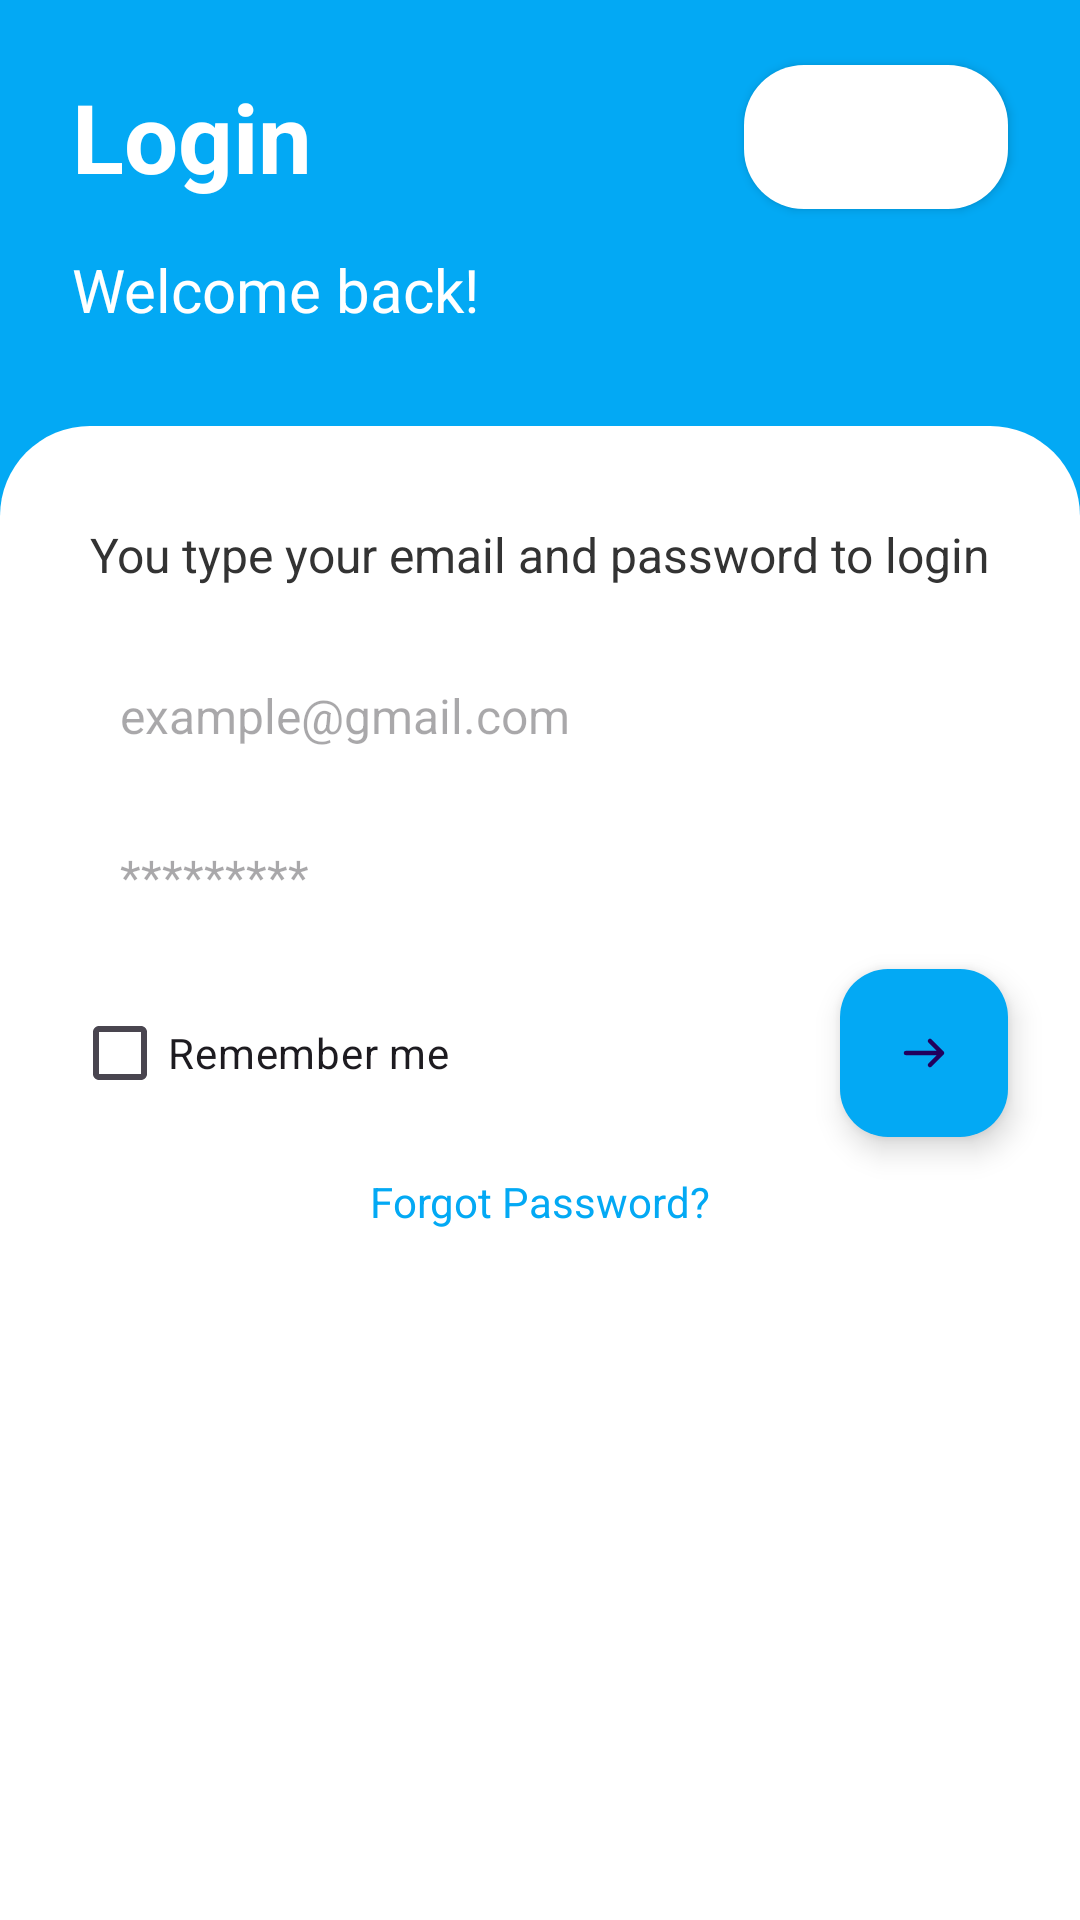

Locate icon controls on the screen. Image size 1080x1920, boxes as (x1, y1, x2, y2).
continue: (840, 969, 1008, 1137)
